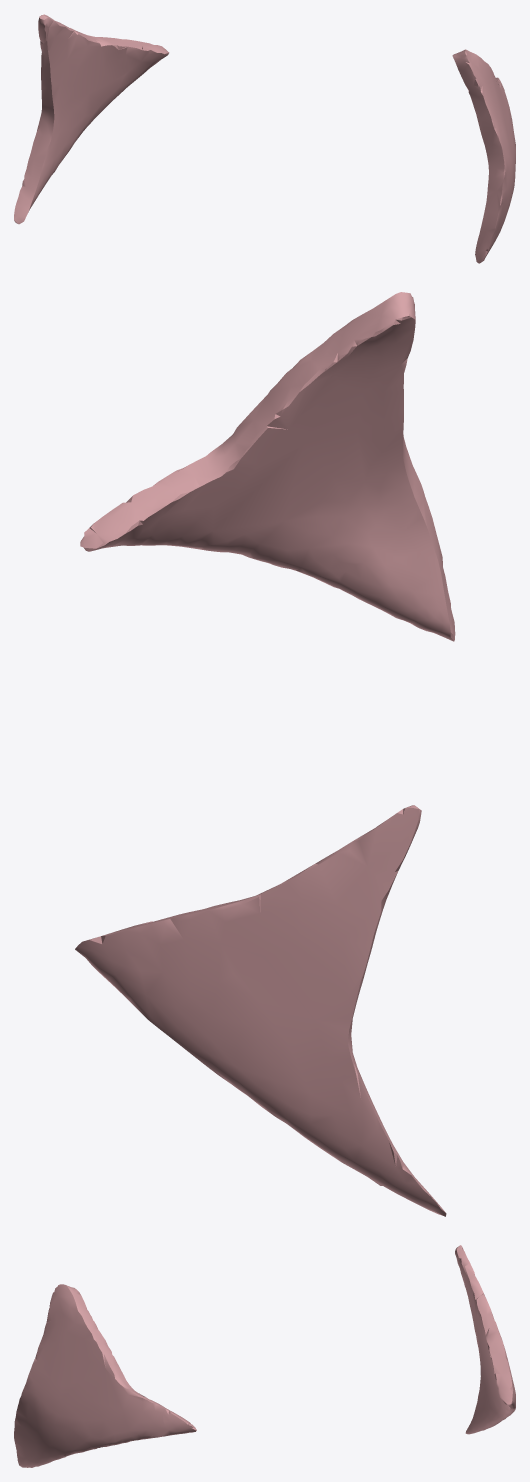
File: fma9502_cx295.glb
3 views of the same model, one above another, from view 1: azimuth 30°, elevation 25°; view 2: azimuth 150°, elevation 25°; view 3: azimuth 270°, elevation 25° (orthographic). The views are drawn at different scales.
Visible parts, largest first — view 1: FMA9502_CX295; view 2: FMA9502_CX295; view 3: FMA9502_CX295.
Part boxes in pixels (x1,y1,x2,y2): FMA9502_CX295: [14, 14, 515, 263]; FMA9502_CX295: [75, 292, 455, 1216]; FMA9502_CX295: [14, 1245, 515, 1467].
Bounding box in the file's own units: 0.0215 × 0.0166 × 0.0291.
